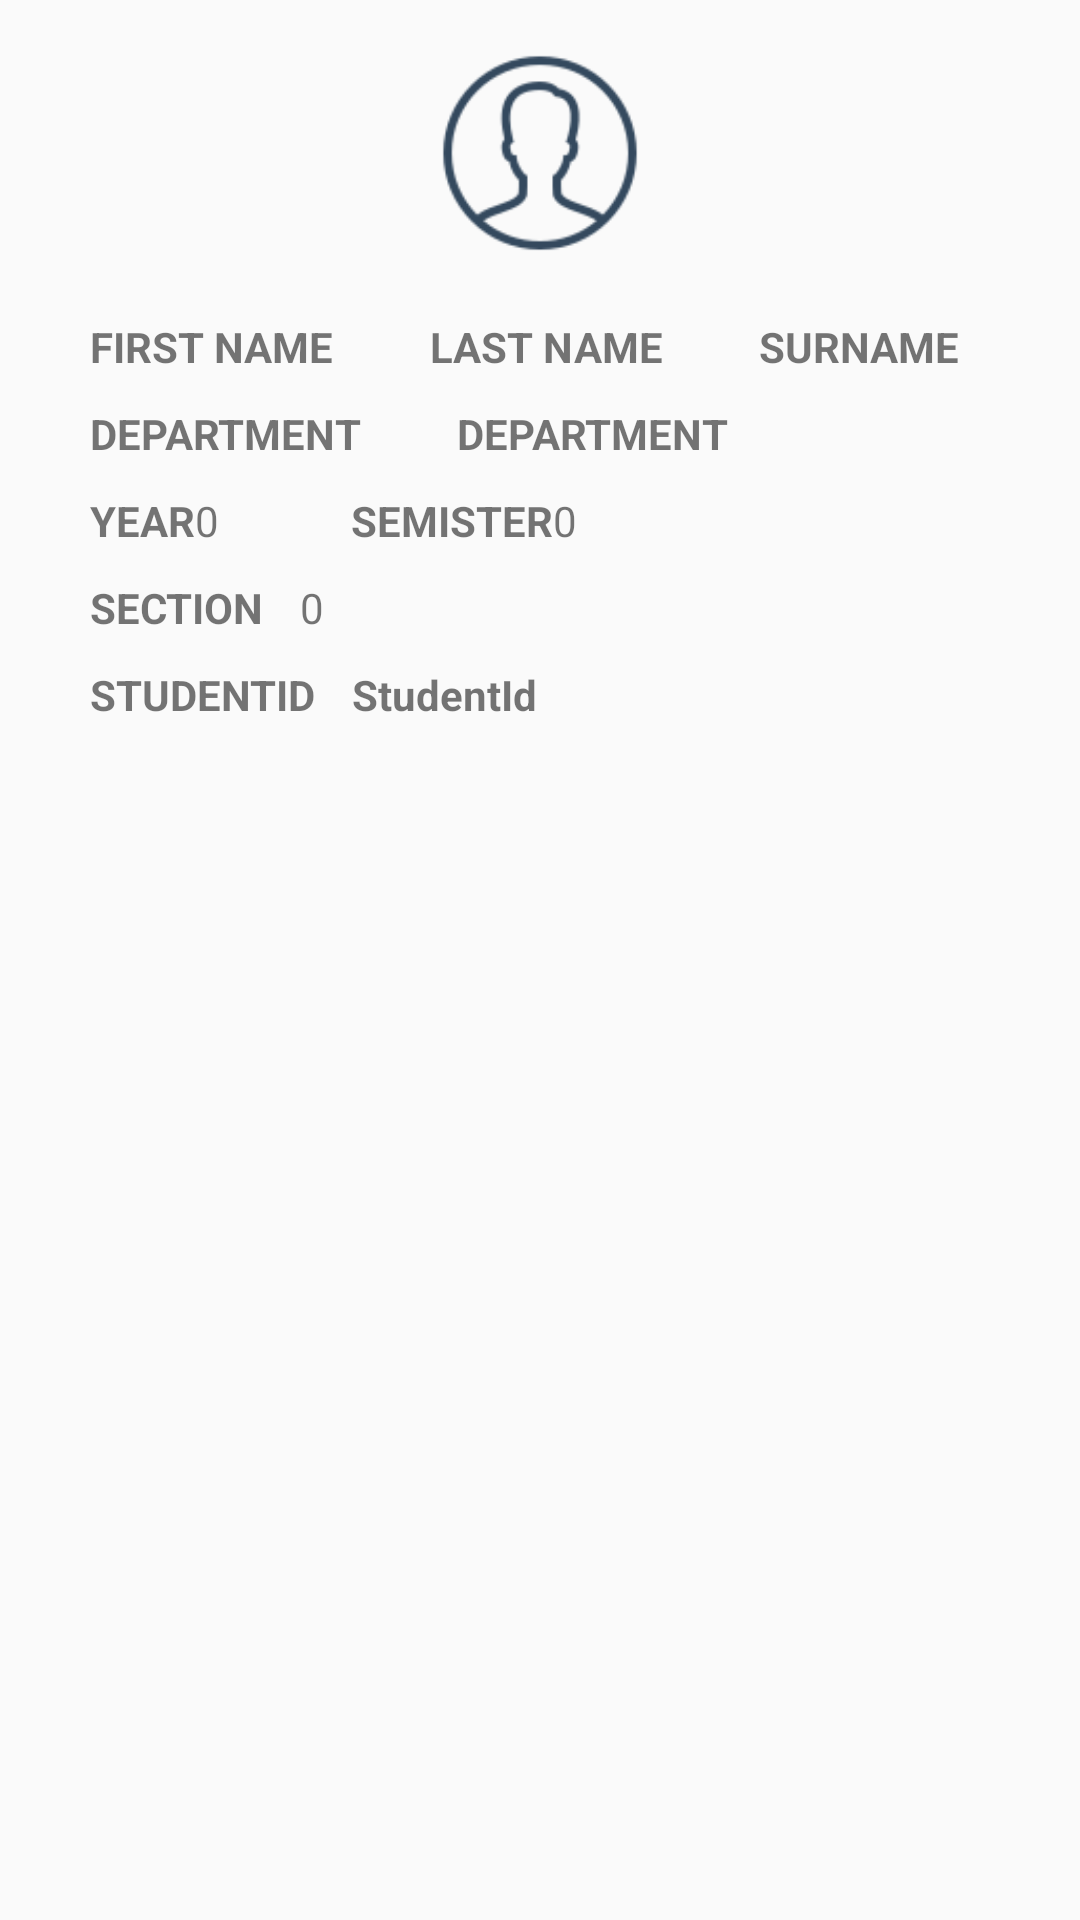

Screen size 1080 × 1920. Icon name, then its box in pixels as BBox(x1, y1, x2, y2):
male user: BBox(443, 56, 637, 250)
